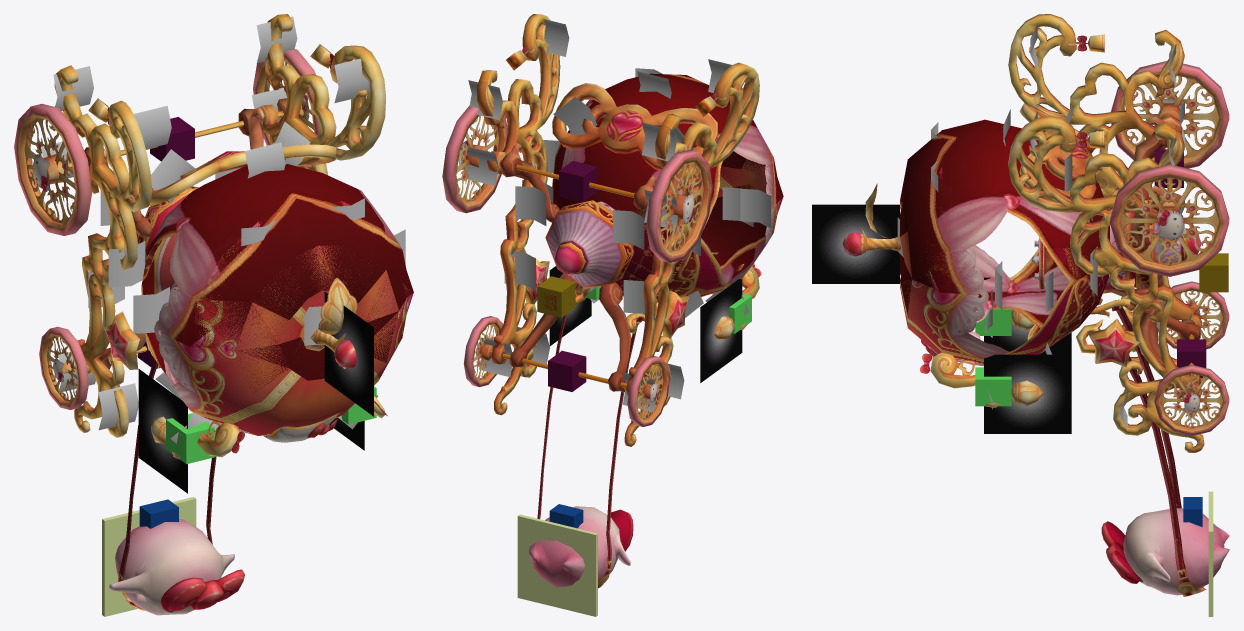
3 views of the same model, side by side, from view 1: azimuth 30°, elevation 25°; view 2: azimuth 150°, elevation 25°; view 3: azimuth 270°, elevation 25° (orthographic). The views are drawn at different scales.
Parts seen in each view (by area): view 1: R127, "Editable Poly", Plane, Plane@#7, Box@#0, Box@#1, Box@#8, Box, Plane@#6; view 2: R127, "Editable Poly", Box@#0, Plane, Box@#10, Box@#9, Box@#8, Plane@#6, Box, Box@#1; view 3: R127, Plane@#7, Plane@#6, "Editable Poly", Box@#2, Box@#10, Plane, Box@#9, Box@#1, Box@#0.
Part boxes in pixels (x1,y1,x2,y2): R127: [14, 14, 413, 615]; "Editable Poly": [41, 16, 405, 443]; Plane: [138, 369, 187, 493]; Plane@#7: [324, 292, 373, 416]; Box@#0: [102, 497, 196, 616]; Box@#1: [166, 413, 214, 464]; Box@#8: [150, 117, 194, 161]; Box: [139, 499, 178, 528]; Plane@#6: [329, 417, 364, 450]; R127: [442, 14, 783, 588]; "Editable Poly": [464, 19, 771, 412]; Box@#0: [517, 514, 597, 616]; Plane: [700, 279, 742, 382]; Box@#10: [537, 276, 575, 317]; Box@#9: [548, 350, 586, 391]; Box@#8: [559, 161, 597, 202]; Plane@#6: [549, 266, 591, 346]; Box: [549, 504, 583, 528]; Box@#1: [729, 293, 751, 333]; R127: [842, 14, 1229, 596]; Plane@#7: [812, 204, 899, 283]; Plane@#6: [984, 354, 1071, 433]; "Editable Poly": [897, 23, 1191, 430]; Box@#2: [975, 367, 1011, 406]; Box@#10: [1199, 253, 1228, 292]; Plane: [984, 277, 1071, 354]; Box@#9: [1177, 339, 1206, 377]; Box@#1: [975, 308, 1011, 335]; Box@#0: [1208, 491, 1213, 616].
Bounding box in the file's own units: 4.8 × 10.01 × 7.14.
